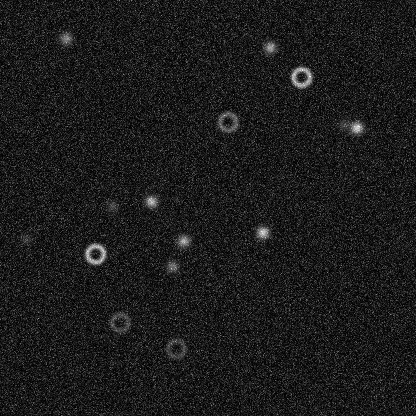Ring: (289, 64, 313, 88), (83, 241, 107, 265), (107, 310, 131, 334), (215, 109, 239, 133), (163, 336, 187, 360)
Spot: (57, 30, 73, 46), (143, 193, 159, 209), (262, 39, 278, 55), (175, 232, 191, 248), (335, 116, 351, 132), (348, 119, 364, 135), (103, 198, 119, 214), (18, 231, 34, 247), (164, 258, 180, 274), (254, 224, 270, 240)
